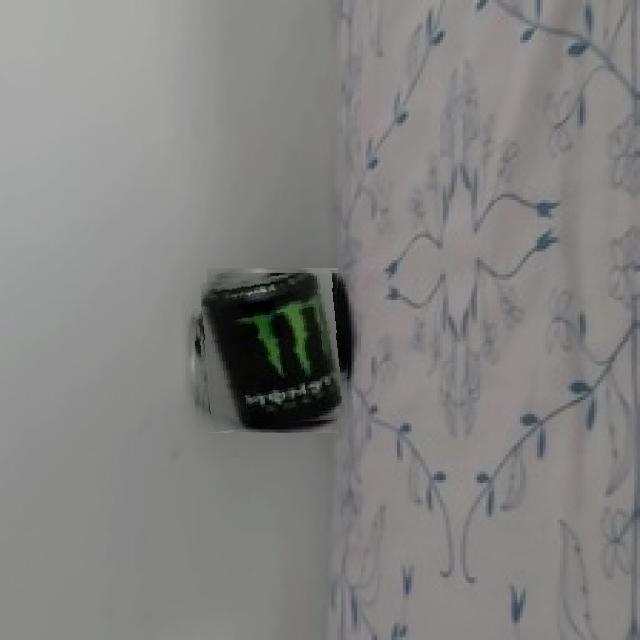recyclable: (195, 273, 350, 428)
